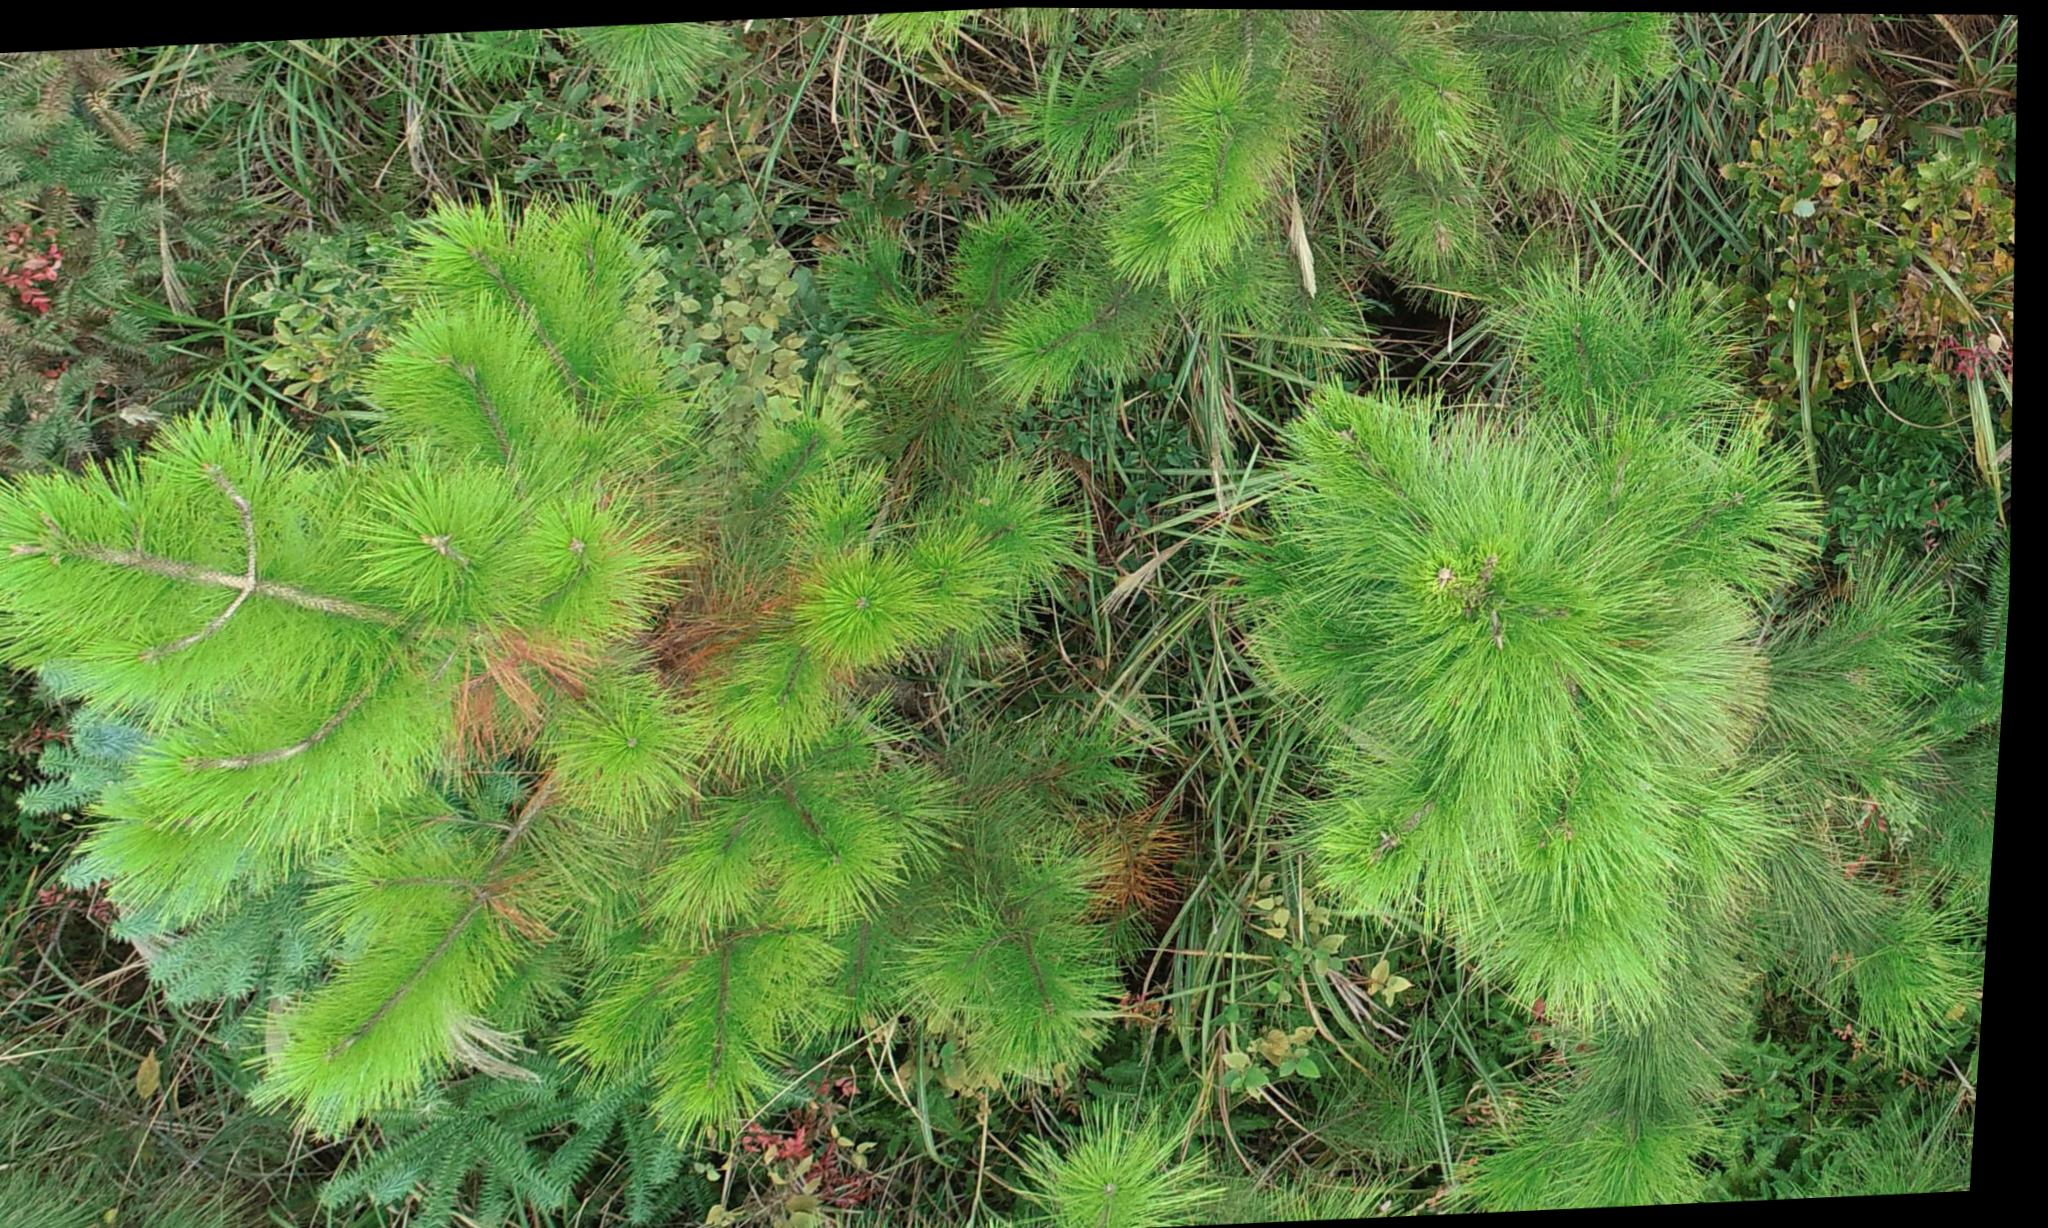heavy: (614, 535, 794, 697)
